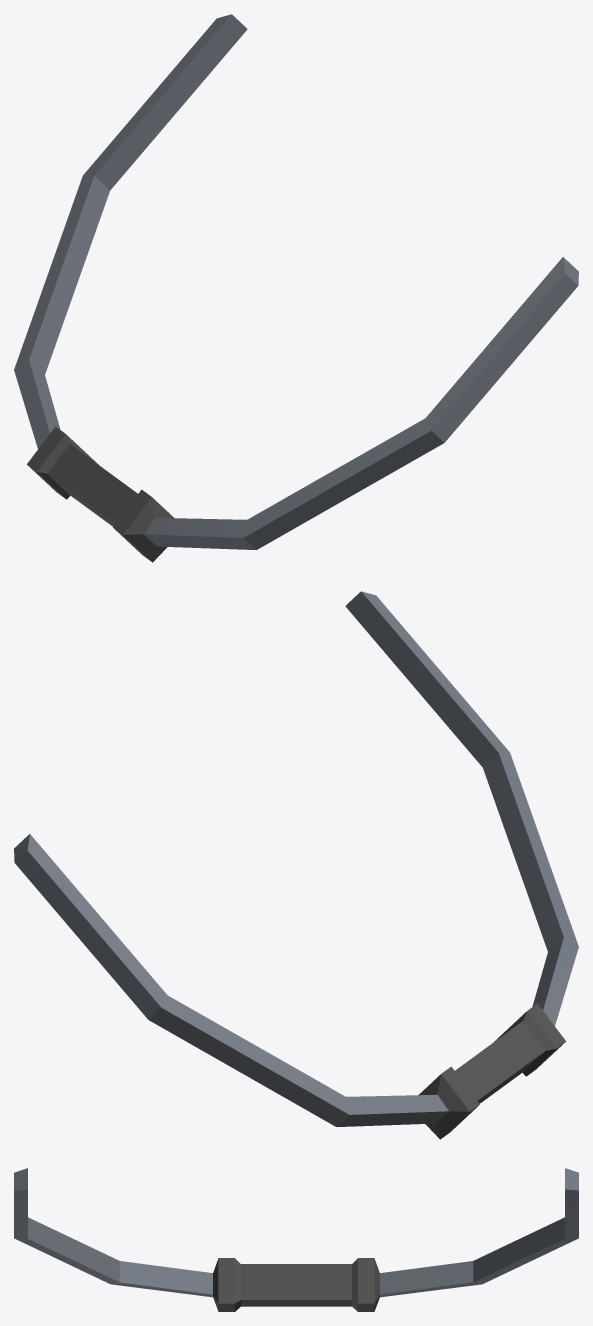
Rendered from SM_Prop_Paint_Bucket_Closed_01_Handle.obj.
3 renders of one model, top to bottom at view 1: azimuth 30°, elevation 25°; view 2: azimuth 150°, elevation 25°; view 3: azimuth 270°, elevation 25°, orthographic. The views are drawn at different scales.
Parts seen in each view (by area): view 1: SM_Prop_Paint_Bucket_Closed_01_Handle_0; view 2: SM_Prop_Paint_Bucket_Closed_01_Handle_0; view 3: SM_Prop_Paint_Bucket_Closed_01_Handle_0.
Part boxes in pixels (box(x1,y1,x2,y2)): SM_Prop_Paint_Bucket_Closed_01_Handle_0: box(14, 14, 578, 562); SM_Prop_Paint_Bucket_Closed_01_Handle_0: box(14, 591, 578, 1139); SM_Prop_Paint_Bucket_Closed_01_Handle_0: box(14, 1168, 578, 1311).
Bounding box in the file's own units: 0.2632 × 0.2381 × 0.4694.
1 material, 1 textured.
